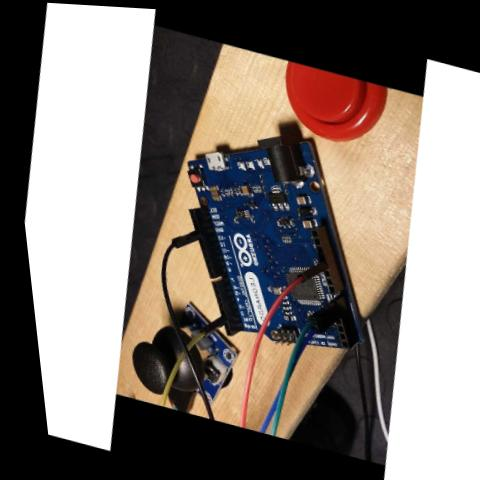Arduino-Leonardo: (139, 99, 403, 375)
